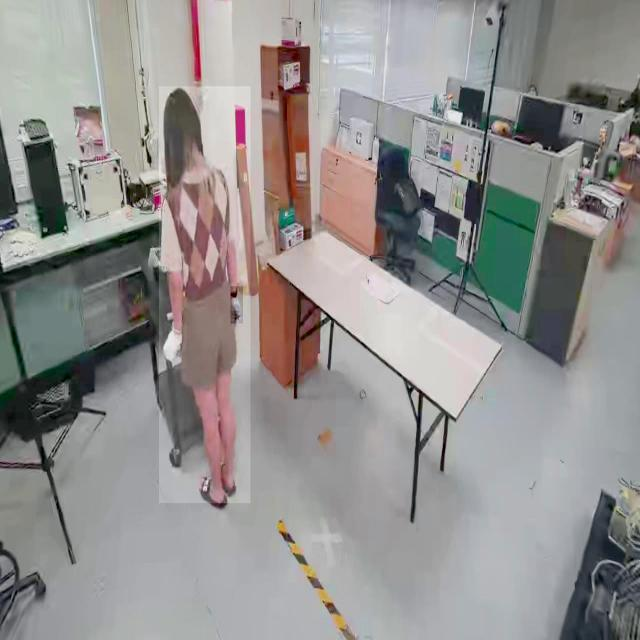hand_glove: (165, 322, 187, 370), (230, 286, 243, 324)
head_nohelmet: (163, 87, 199, 118)
person: (159, 86, 251, 504)
